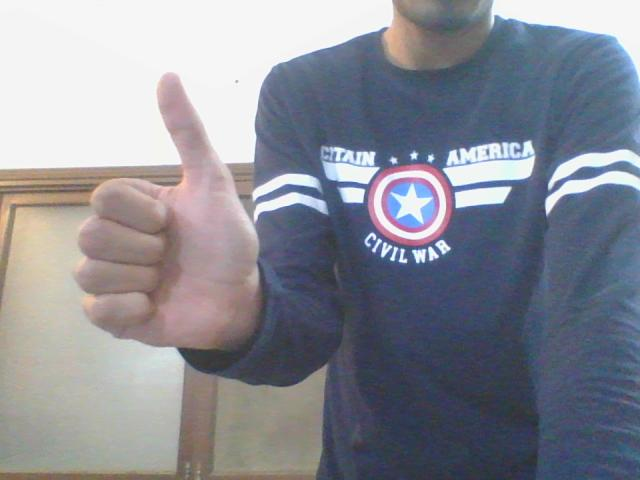thumbs-up: (76, 74, 255, 349)
